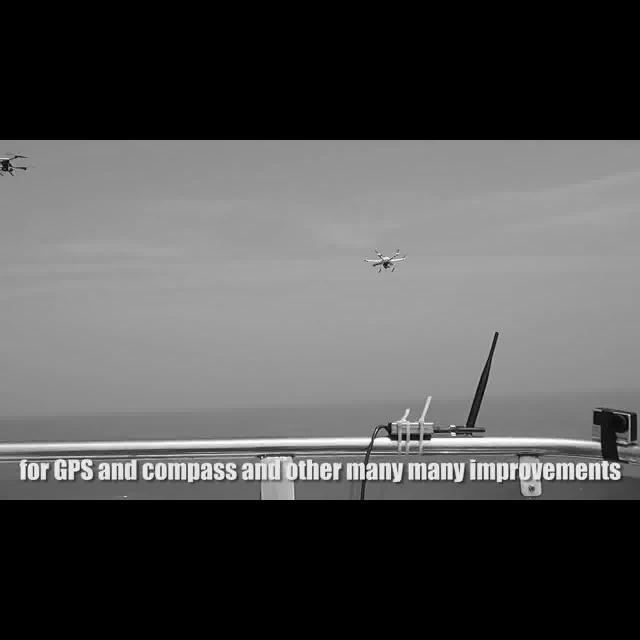Drons: (358, 240, 412, 279), (0, 150, 32, 182)
